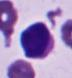L: (19, 21, 54, 60)
